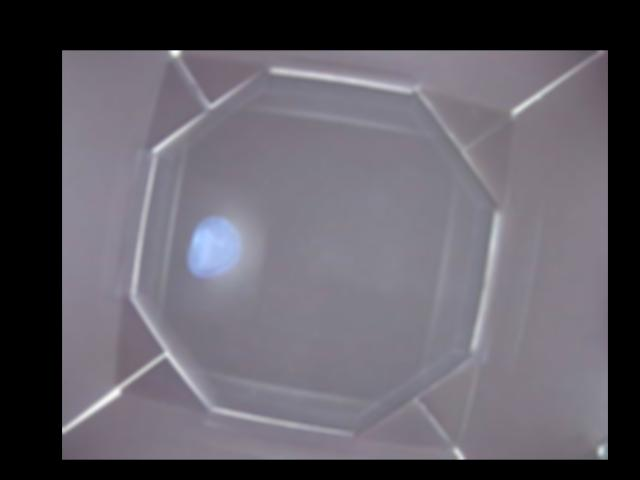Pebble: (186, 214, 241, 277)
